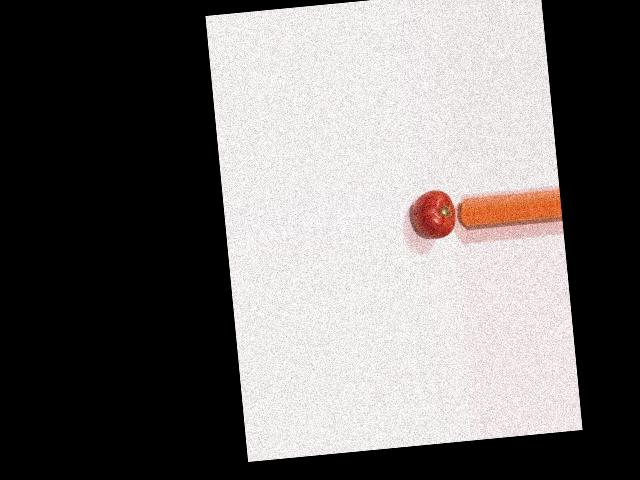tomato: (410, 188, 457, 240)
